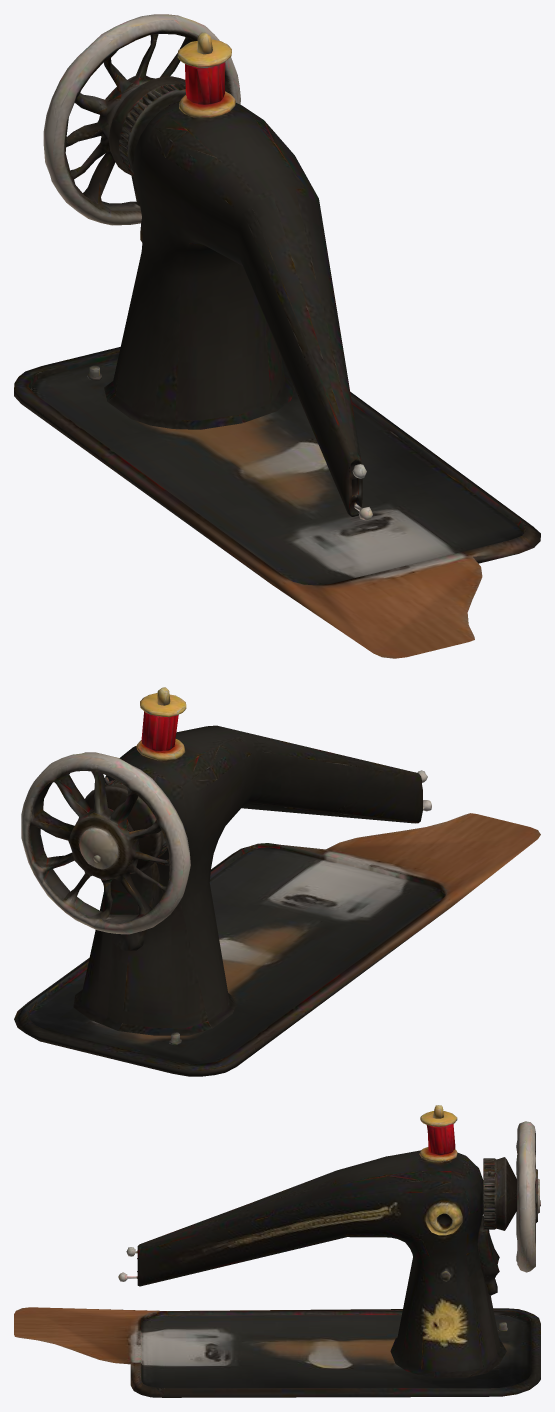
File: sewing_machine.glb
3 views of the same model, one above another, from view 1: azimuth 30°, elevation 25°; view 2: azimuth 150°, elevation 25°; view 3: azimuth 270°, elevation 25° (orthographic). The views are drawn at different scales.
Visible parts, largest first — view 1: tripo_node_0074f34c-986b-48b2-a2e6-8a032cc0474d; view 2: tripo_node_0074f34c-986b-48b2-a2e6-8a032cc0474d; view 3: tripo_node_0074f34c-986b-48b2-a2e6-8a032cc0474d.
Boxes of the visible parts, x1,y1,x2,y2 form: tripo_node_0074f34c-986b-48b2-a2e6-8a032cc0474d: [14, 14, 540, 658]; tripo_node_0074f34c-986b-48b2-a2e6-8a032cc0474d: [14, 687, 540, 1076]; tripo_node_0074f34c-986b-48b2-a2e6-8a032cc0474d: [14, 1105, 540, 1397].
Bounding box in the file's own units: 0.3809 × 0.5254 × 0.998.
1 material, 1 textured.
